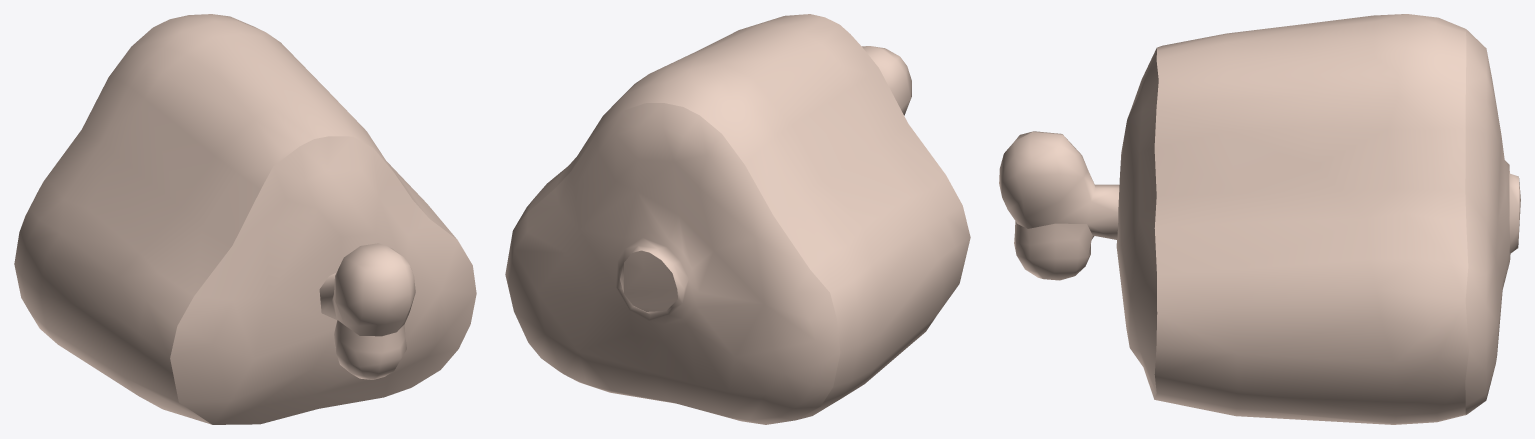
The model's file is obj_resource_steak.fbx.
3 views of the same model, side by side, from view 1: azimuth 30°, elevation 25°; view 2: azimuth 150°, elevation 25°; view 3: azimuth 270°, elevation 25° (orthographic). The views are drawn at different scales.
Visible parts, largest first — view 1: obj_resource_steak; view 2: obj_resource_steak; view 3: obj_resource_steak.
Boxes of the visible parts, x1,y1,x2,y2 form: obj_resource_steak: (14,14,476,424); obj_resource_steak: (505,14,970,424); obj_resource_steak: (999,14,1520,424).
Bounding box in the file's own units: 3.32 × 2.94 × 3.98.
